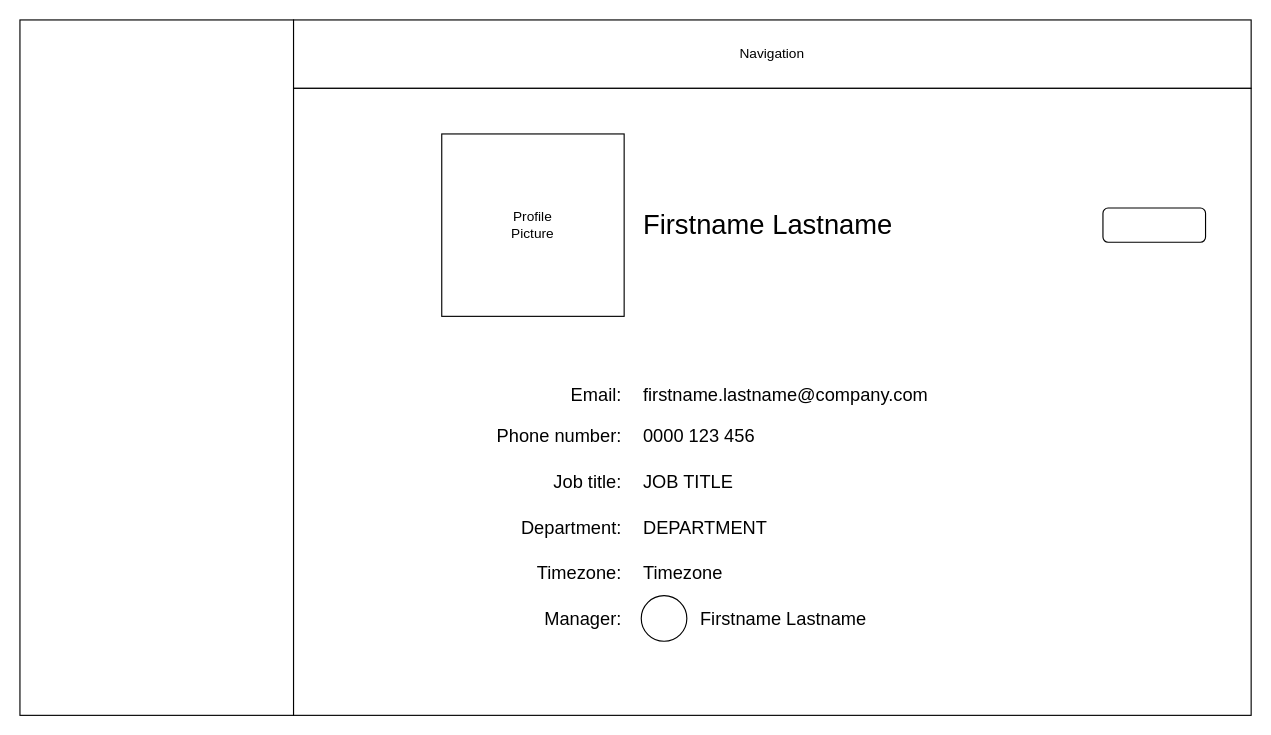
Some shapes in this 1271 by 735 pixel diagram are drawn without their labels. Here are the shapes that lost their labels. From the top down, the centre of each, then its label:
the point at 1154,224: Edit profile
the point at 156,367: Toolbar
